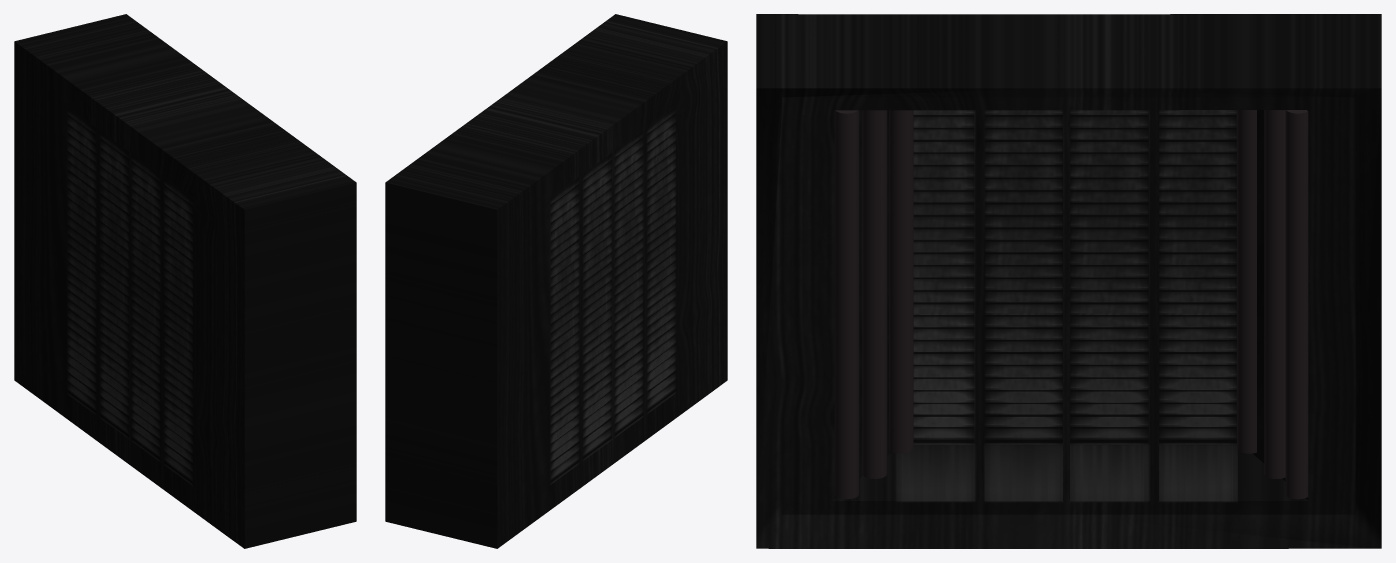
File: wall panel 3.fbx
The picture shows the model from 3 angles, left to right: view 1: azimuth 30°, elevation 25°; view 2: azimuth 150°, elevation 25°; view 3: azimuth 270°, elevation 25°; orthographic projection. The views are drawn at different scales.
Visible parts, largest first — view 1: pCube1; view 2: pCube1; view 3: pCube1, pCylinder1, pCylinder2, pCylinder6, pCylinder3, pCylinder5, pCylinder4.
Part boxes in pixels (x1=…): pCube1: x1=14, y1=14, x2=356, y2=548; pCube1: x1=385, y1=14, x2=727, y2=548; pCube1: x1=756, y1=14, x2=1381, y2=548; pCylinder1: x1=834, y1=110, x2=859, y2=499; pCylinder2: x1=862, y1=110, x2=887, y2=478; pCylinder6: x1=1285, y1=110, x2=1308, y2=499; pCylinder3: x1=889, y1=110, x2=913, y2=453; pCylinder5: x1=1264, y1=110, x2=1285, y2=478; pCylinder4: x1=1237, y1=110, x2=1256, y2=453.
Bounding box in the file's own units: 6.84 × 19.79 × 24.35.
